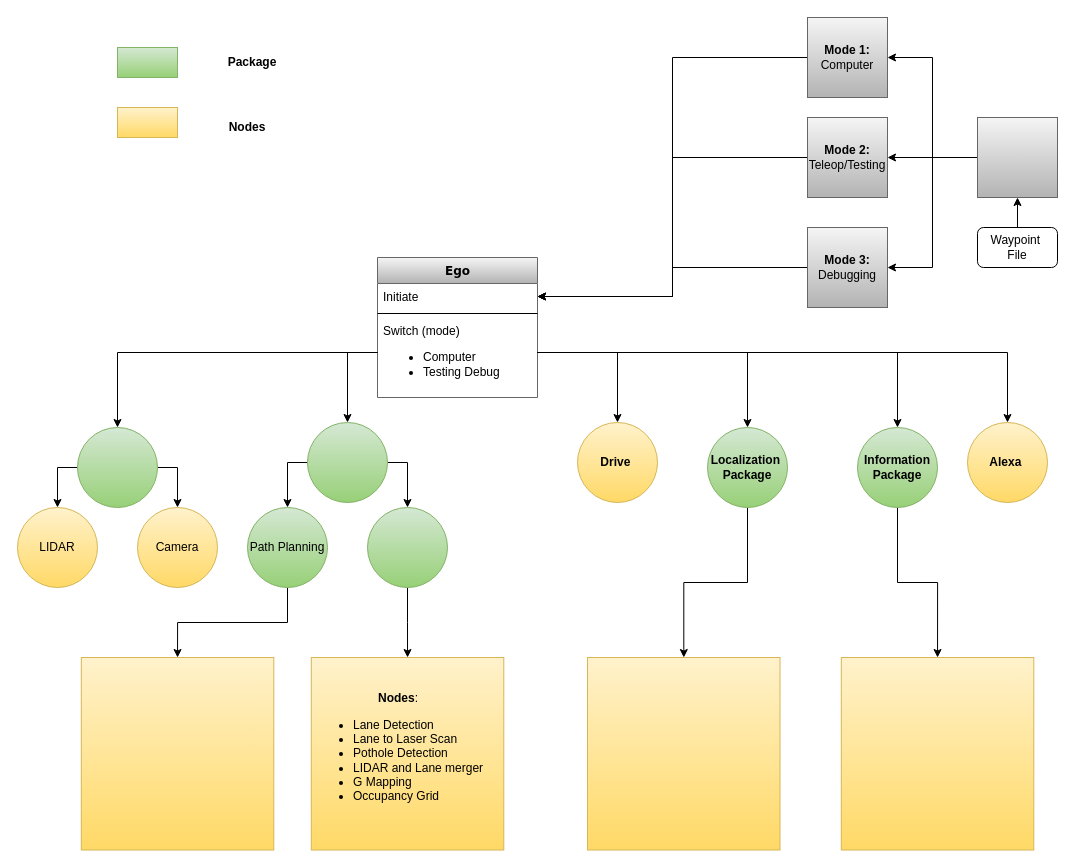
Some shapes in this 1075 by 868 pixel diagram are drawn without their labels. The centre of each missing label's shape, as x and y in pixels:
Mapping: (x=407, y=547)
Navigation Package: (x=347, y=462)
Nodes : GPS IMU Encoders: (x=683, y=753)
Nodes : Status Reporter Information Logger: (x=937, y=753)
Nodes: Global Planner Local Planner Cost Map 2D Waypoint Generation: (x=177, y=753)
Parameter Server: (x=1017, y=157)
Perception Package: (x=117, y=467)
